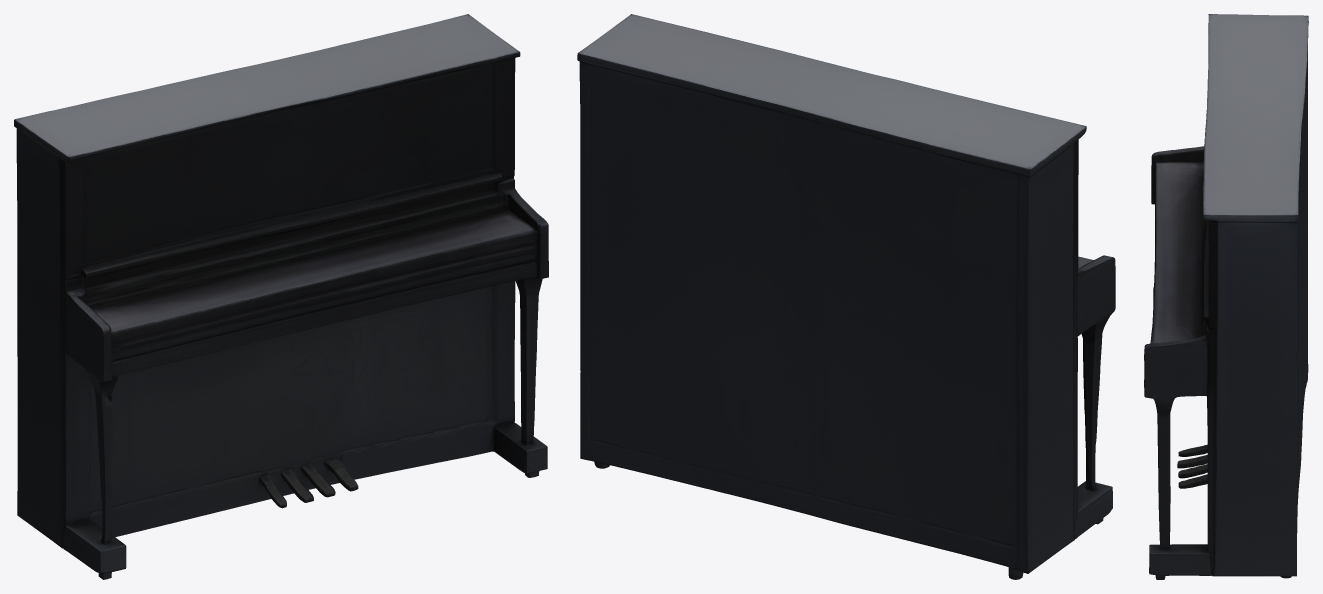
File: piano.glb
3 views of the same model, side by side, from view 1: azimuth 30°, elevation 25°; view 2: azimuth 150°, elevation 25°; view 3: azimuth 270°, elevation 25° (orthographic). The views are drawn at different scales.
Visible parts, largest first — view 1: world; view 2: world; view 3: world.
Boxes of the visible parts, left/top/right/bottom form: world: left=14, top=14, right=548, bottom=579; world: left=577, top=14, right=1115, bottom=579; world: left=1144, top=14, right=1308, bottom=579.
Size of the model in its own units: 0.9972 by 0.8726 by 0.3474.
1 material, 1 textured.
